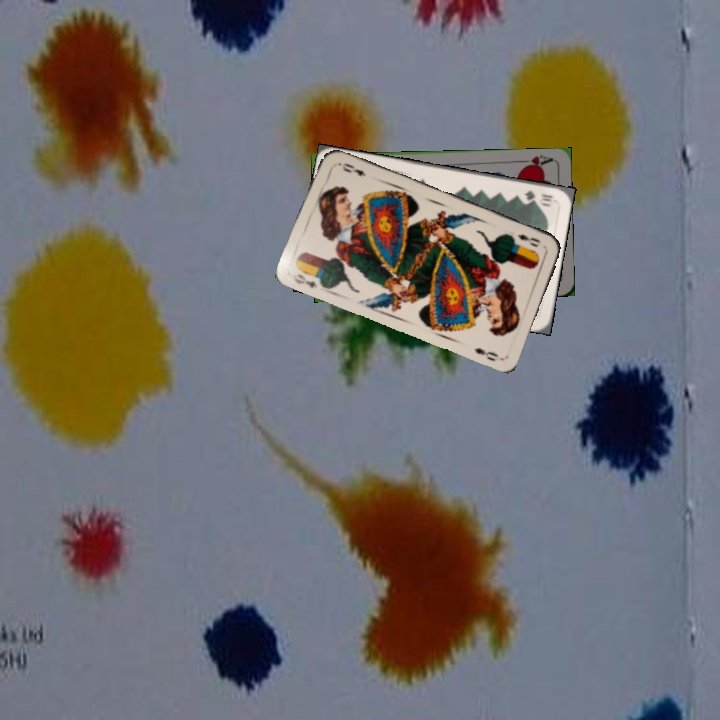EO: (289, 270, 320, 291), (514, 230, 544, 250)
G10: (520, 186, 556, 207)
HA: (514, 151, 555, 171)
